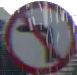Don't turn left: (2, 1, 76, 70)
